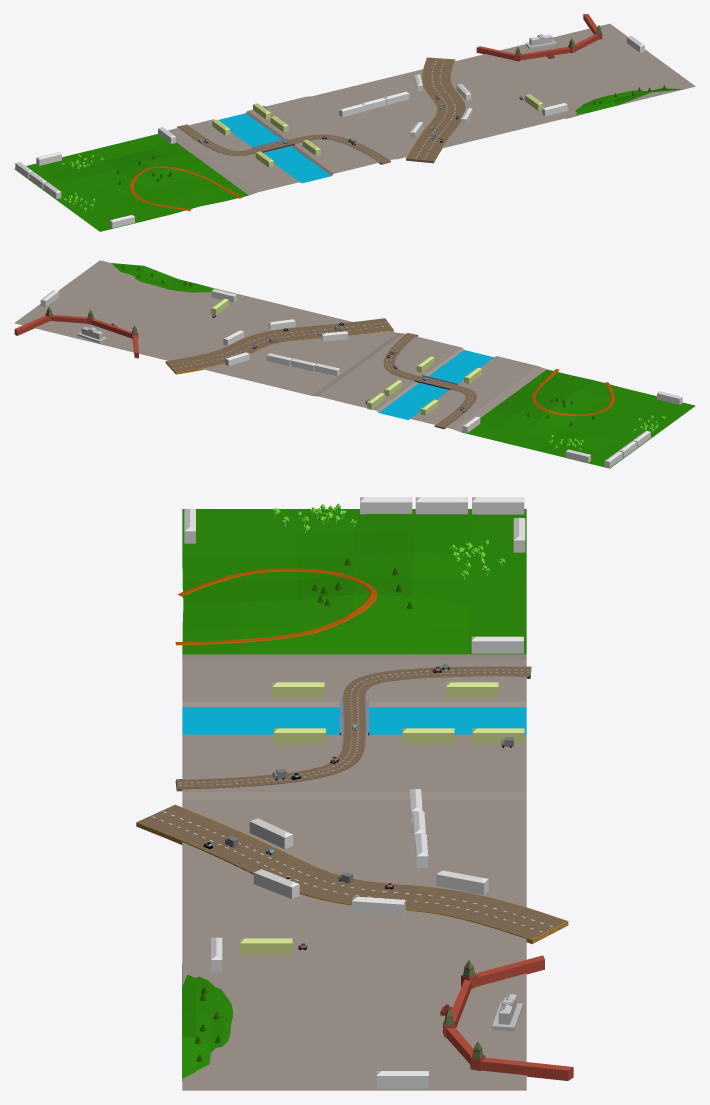
The model's file is maskva.fbx.
3 renders of one model, top to bottom at view 1: azimuth 30°, elevation 25°; view 2: azimuth 150°, elevation 25°; view 3: azimuth 270°, elevation 25°, orthographic. The views are drawn at different scales.
Parts seen in each view (by area): view 1: park_ground, Plane.001, Plane, ground, road copy, Plane.002, Kremlin wall, nurmi, dirt_path; view 2: park_ground, Plane.001, Plane, ground, road copy, Plane.002, nurmi, Kremlin wall, dirt_path; view 3: park_ground, Plane, Plane.001, ground, road copy, Plane.002, nurmi, Kremlin wall, dirt_path, Building 1.020, Building 1.015, Building 1.021 (+9 smaller).
Part boxes in pixels (<box>): park_ground: <box>14,134,248,231</box>; Plane.001: <box>168,96,397,195</box>; Plane: <box>461,23,695,122</box>; ground: <box>312,60,546,158</box>; road copy: <box>406,57,465,163</box>; Plane.002: <box>177,124,390,164</box>; Kremlin wall: <box>476,14,599,60</box>; nurmi: <box>565,88,683,118</box>; dirt_path: <box>130,166,242,211</box>; park_ground: <box>461,369,695,468</box>; Plane.001: <box>312,333,546,431</box>; Plane: <box>14,260,248,359</box>; ground: <box>163,296,397,395</box>; road copy: <box>165,318,393,374</box>; Plane.002: <box>383,333,476,429</box>; nurmi: <box>112,263,213,292</box>; Kremlin wall: <box>14,315,138,358</box>; dirt_path: <box>531,369,614,415</box>; park_ground: <box>182,509,526,654</box>; Plane: <box>182,945,526,1090</box>; Plane.001: <box>182,654,526,799</box>; ground: <box>182,799,526,944</box>; road copy: <box>136,804,568,943</box>; Plane.002: <box>175,666,531,791</box>; nurmi: <box>182,964,232,1081</box>; Kremlin wall: <box>446,955,573,1080</box>; dirt_path: <box>175,568,377,645</box>; Building 1.020: <box>240,938,292,955</box>; Building 1.015: <box>472,497,524,514</box>; Building 1.021: <box>376,1071,428,1088</box>.
Size of the model in its own units: 24000 by 564 by 7624.
